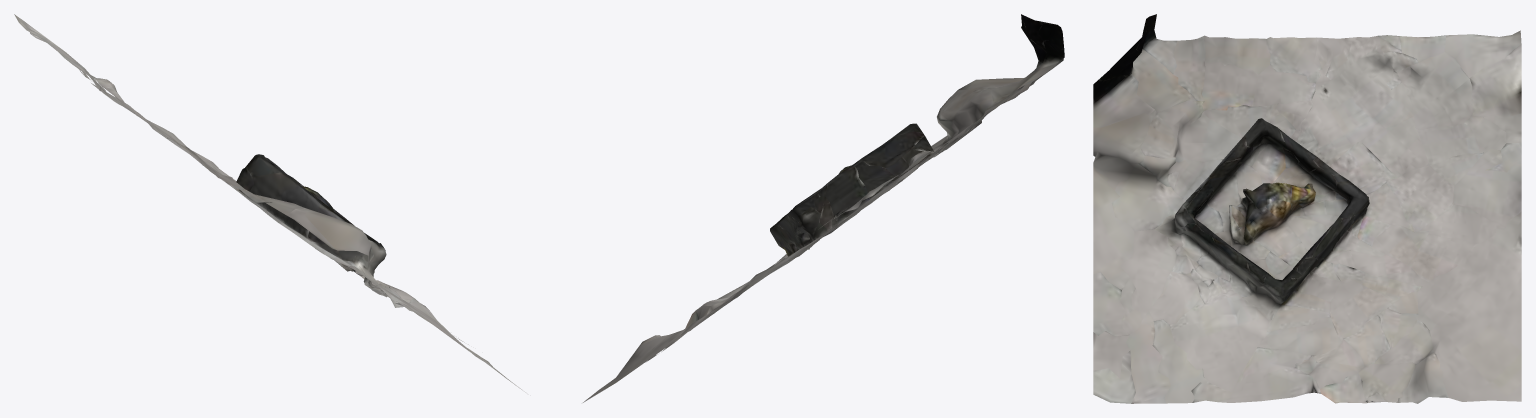
The model's file is hall.glb.
3 views of the same model, side by side, from view 1: azimuth 30°, elevation 25°; view 2: azimuth 150°, elevation 25°; view 3: azimuth 270°, elevation 25° (orthographic). The views are drawn at different scales.
Size of the model in its own units: 1.43 by 1.44 by 2.1.
Materials: 1 (1 with a texture image).
